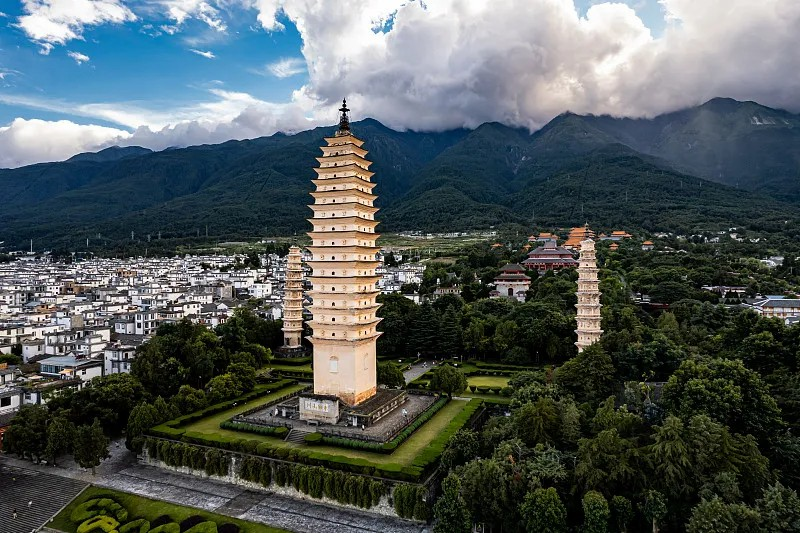ThreePagoda: (303, 97, 384, 406)
